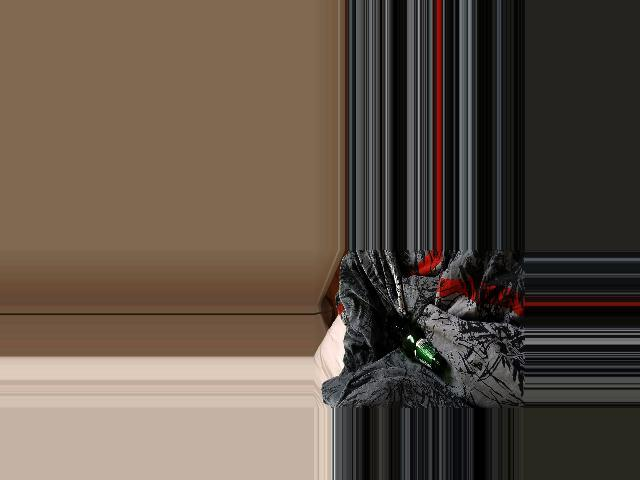beer: (387, 315, 448, 373)
